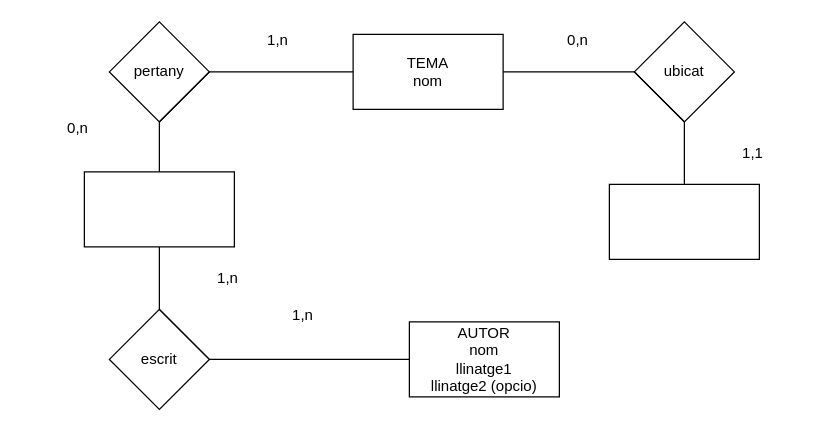
Image size: 830x431. Some labels were removed from this diagram. The centre of each missing label's shape, as x and y in pixels:
"LLIBRE titol isbn codi" belongs at (158,209).
"PRESTATGE codi" belongs at (683,221).
